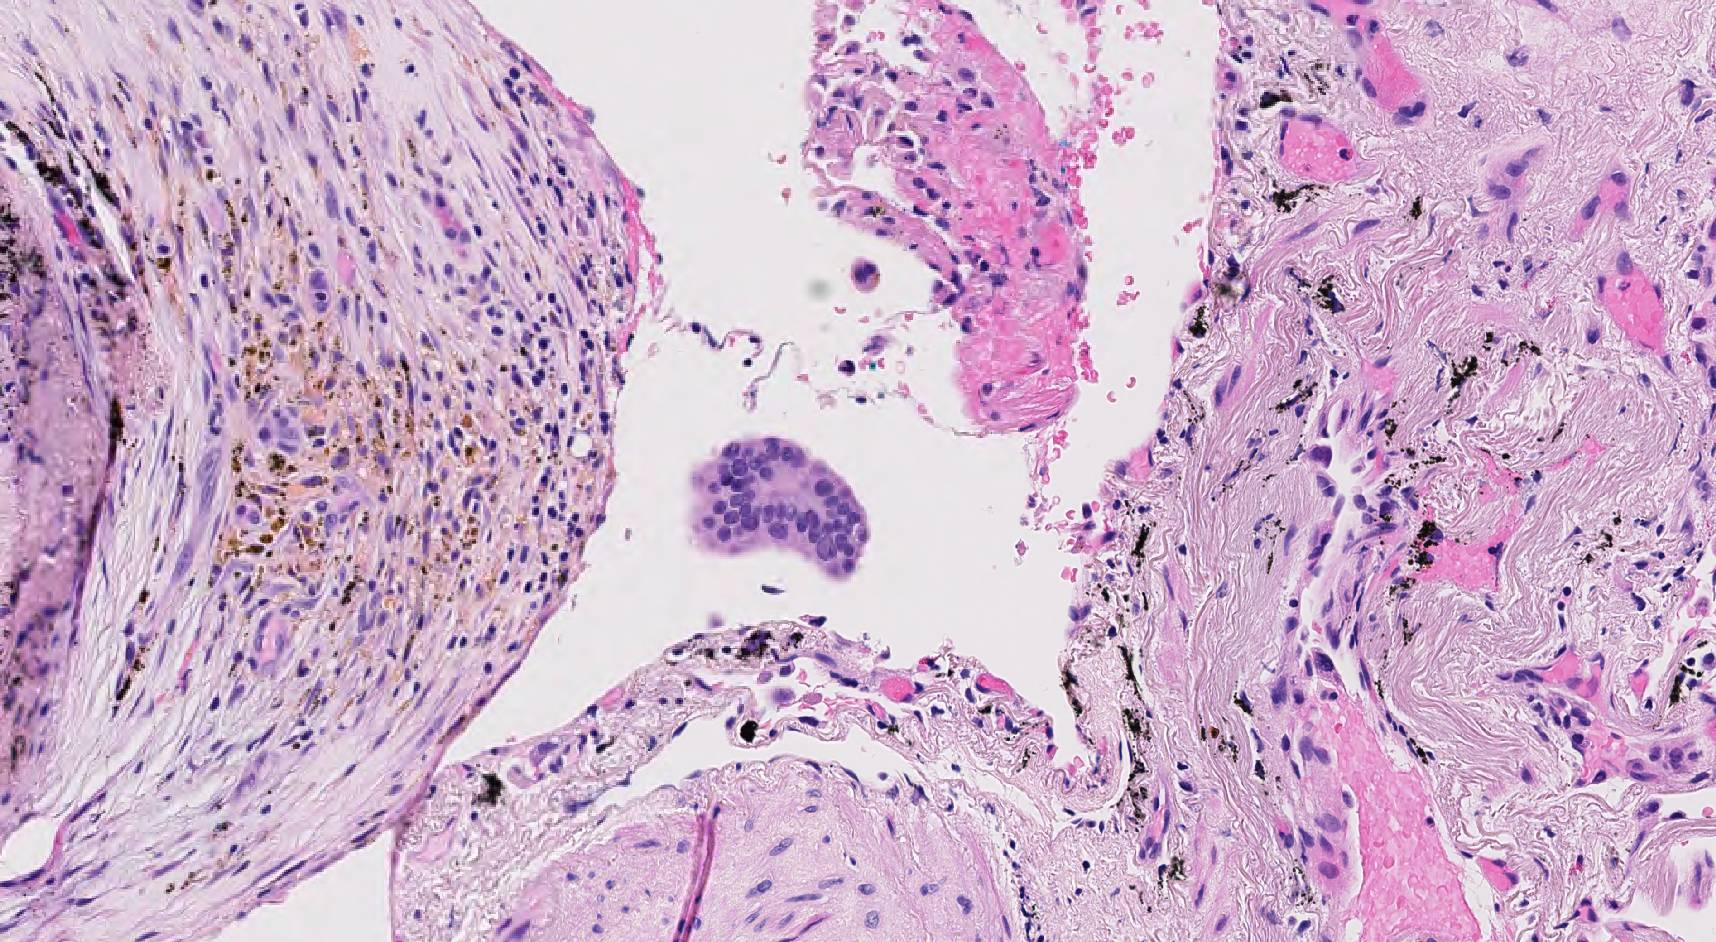stas: (689, 436, 869, 583)
